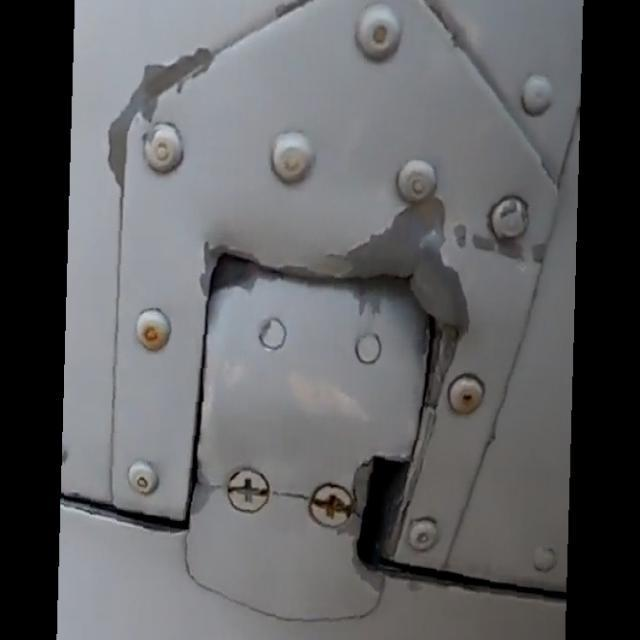crack: (271, 478, 307, 513)
